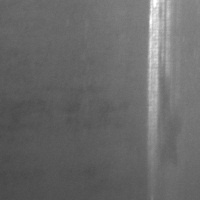scratches: (147, 0, 172, 156)
